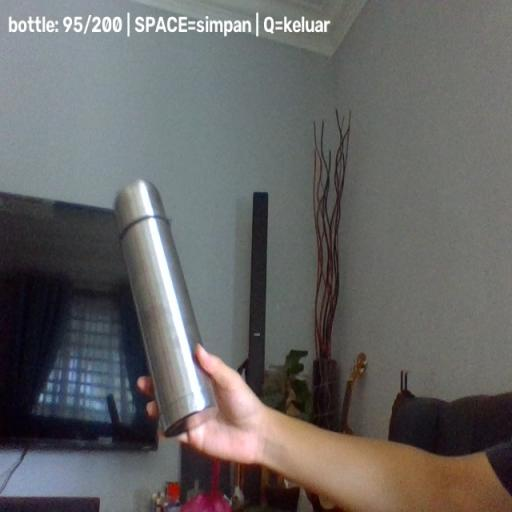Bottle: (114, 178, 220, 439)
